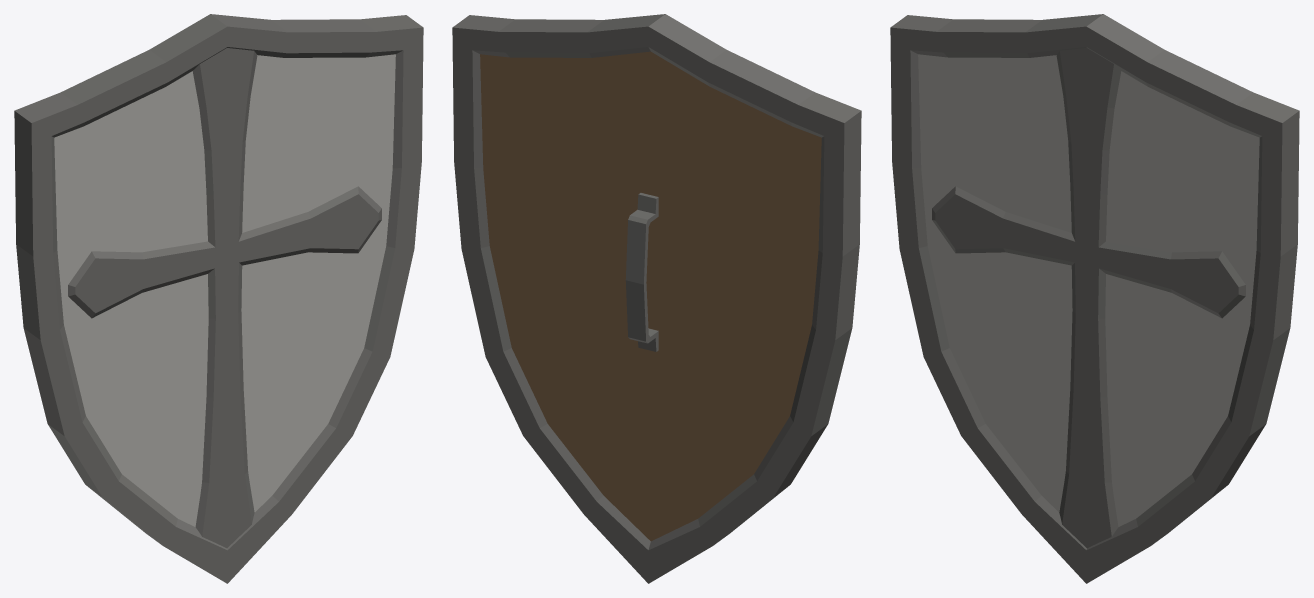
The model's file is SM_pwe_medieval_shield_04a.fbx.
3 views of the same model, side by side, from view 1: azimuth 30°, elevation 25°; view 2: azimuth 150°, elevation 25°; view 3: azimuth 330°, elevation 25° (orthographic).
Parts seen in each view (by area): view 1: SM_pwe_medieval_shield_04a; view 2: SM_pwe_medieval_shield_04a; view 3: SM_pwe_medieval_shield_04a.
Boxes of the visible parts, x1,y1,x2,y2 form: SM_pwe_medieval_shield_04a: (14, 14, 423, 583); SM_pwe_medieval_shield_04a: (452, 14, 861, 583); SM_pwe_medieval_shield_04a: (890, 14, 1299, 583).
Size of the model in its own units: 58.64 by 79.67 by 7.67.
